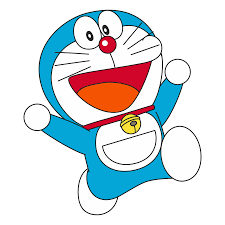doraemon: (23, 9, 202, 217)
